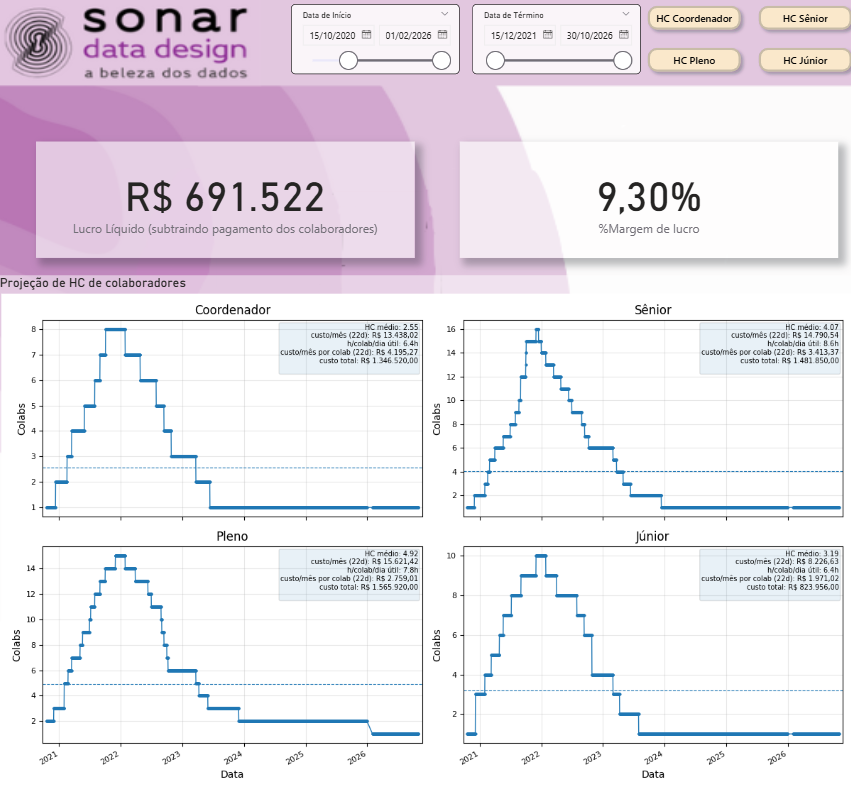

This screenshot's page, from the dashboard's own definition file:
{"tool":"powerbi","page":{"name":"Headcount Gestão","canvas":[1150,1060],"ordinal":2},"visuals":[{"type":"pythonVisual","title":"Projeção de HC de colaboradores ","fields":{"Values":["Cronograma.Data de Início","Cronograma.Data de Término","Equipe.Coordenadores (horas)","Sum(Equipe.Profissionais Júniores (horas))","Equipe.Profissionais Plenos (horas)","Sum(Equipe.Profissionais Sêniores (horas))"]},"box":[0,368,1150,692],"z":0},{"type":"slicer","fields":{"Values":["Cronograma.Data de Início"]},"box":[393.3,6.7,225,93.3],"z":1000},{"type":"slicer","fields":{"Values":["Cronograma.Data de Término"]},"box":[635,6.7,225,93.3],"z":2000},{"type":"card","fields":{"Values":["_TabelaDeMedidas.%Margem de lucro"]},"box":[618.3,190,505,155],"z":3000},{"type":"card","fields":{"Values":["_TabelaDeMedidas.#EBIT"]},"box":[53.3,190,505,155],"z":4000},{"type":"pageNavigator","box":[860,0,290,106.7],"z":5000}]}

Visuals, with their boxes in screenshot pixels (x1, y1, x2, y2), scaled from the page's 1150x1060 canvas onto the 851x786 screenshot:
"Projeção de HC de colaboradores " pythonVisual: (0, 273, 850, 785)
slicer - Cronograma.Data de Início: (291, 5, 458, 74)
slicer - Cronograma.Data de Término: (470, 5, 636, 74)
card - _TabelaDeMedidas.%Margem de lucro: (458, 141, 831, 256)
card - _TabelaDeMedidas.#EBIT: (39, 141, 413, 256)
pageNavigator: (636, 0, 850, 79)
